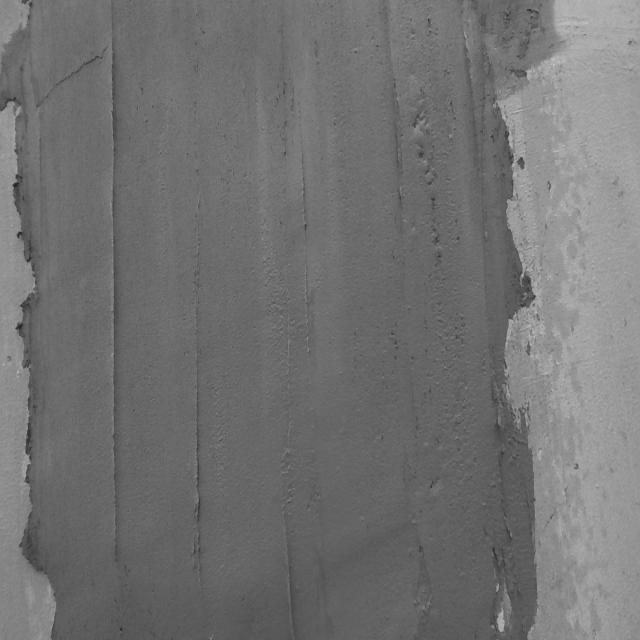trowels marks: (105, 3, 123, 568), (193, 184, 208, 626), (388, 62, 410, 252), (300, 116, 314, 362), (284, 509, 298, 640)
